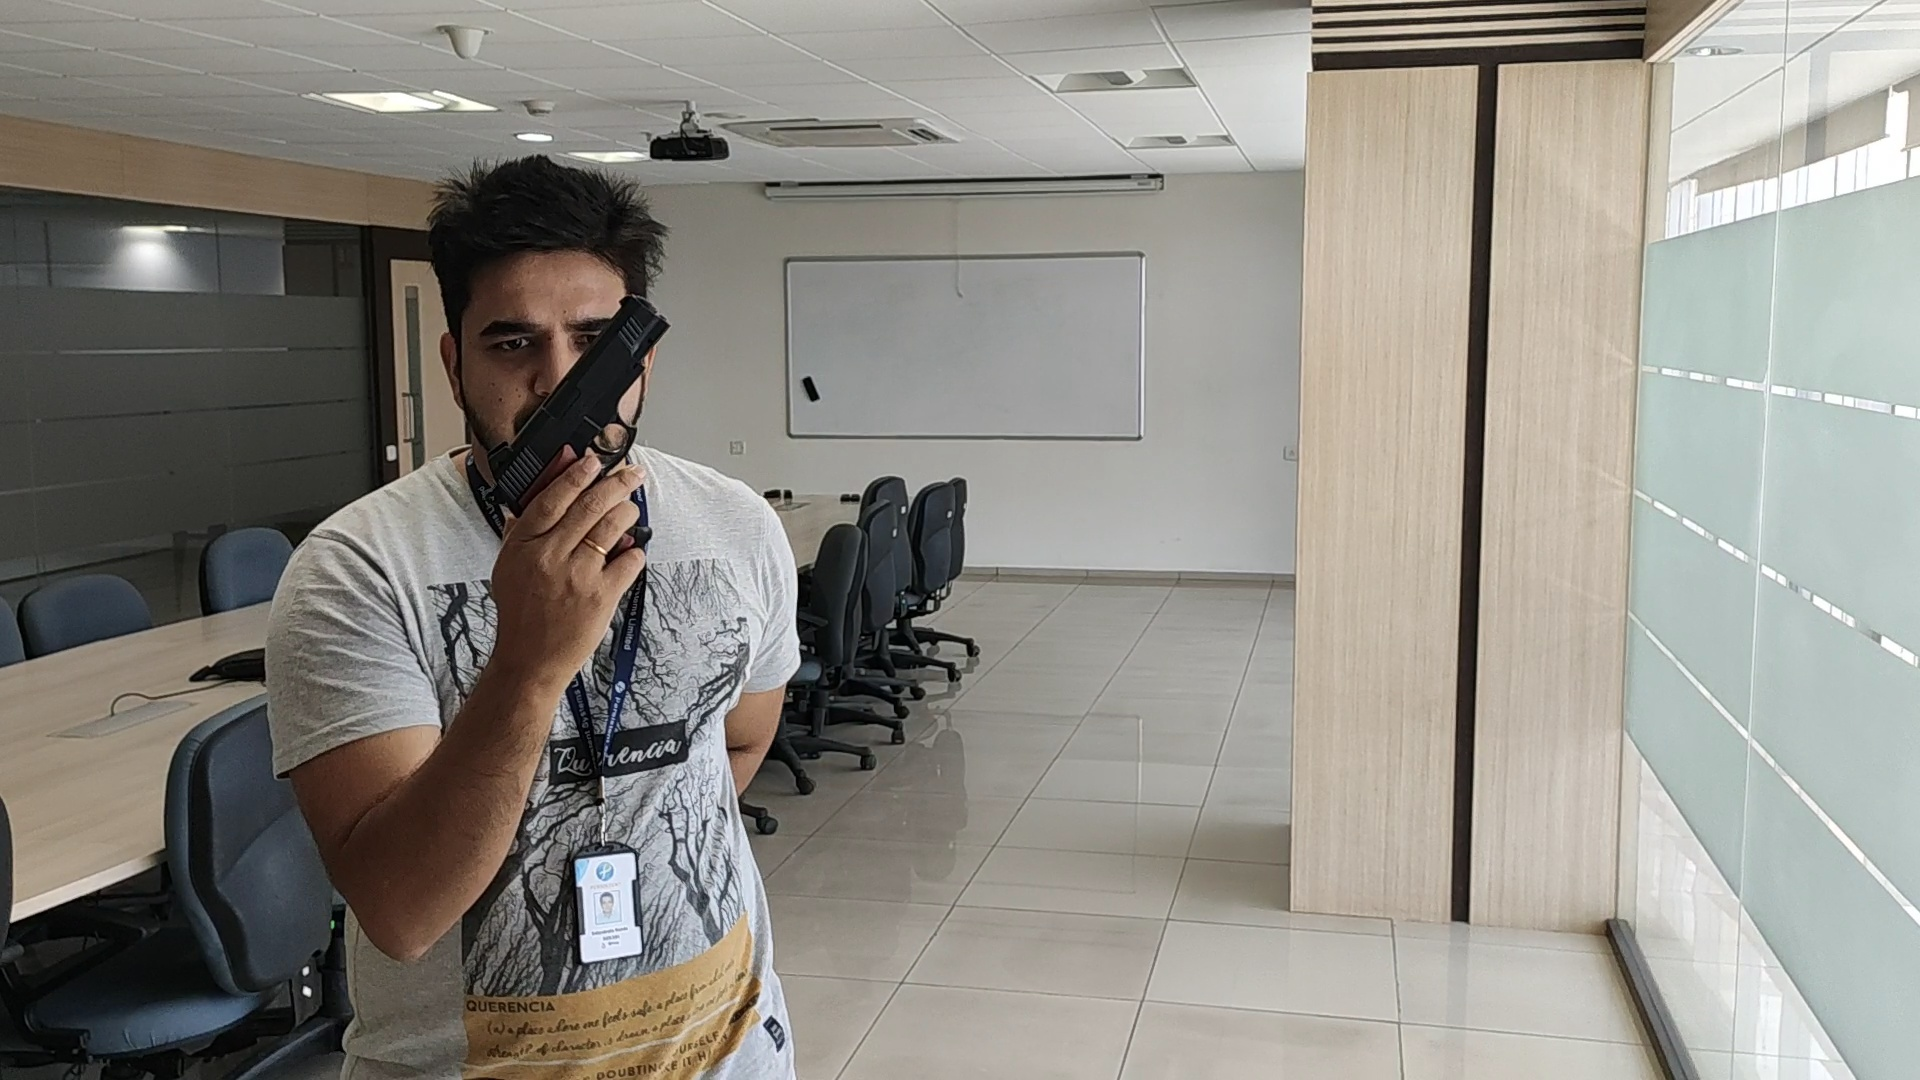gun: (488, 297, 671, 454)
